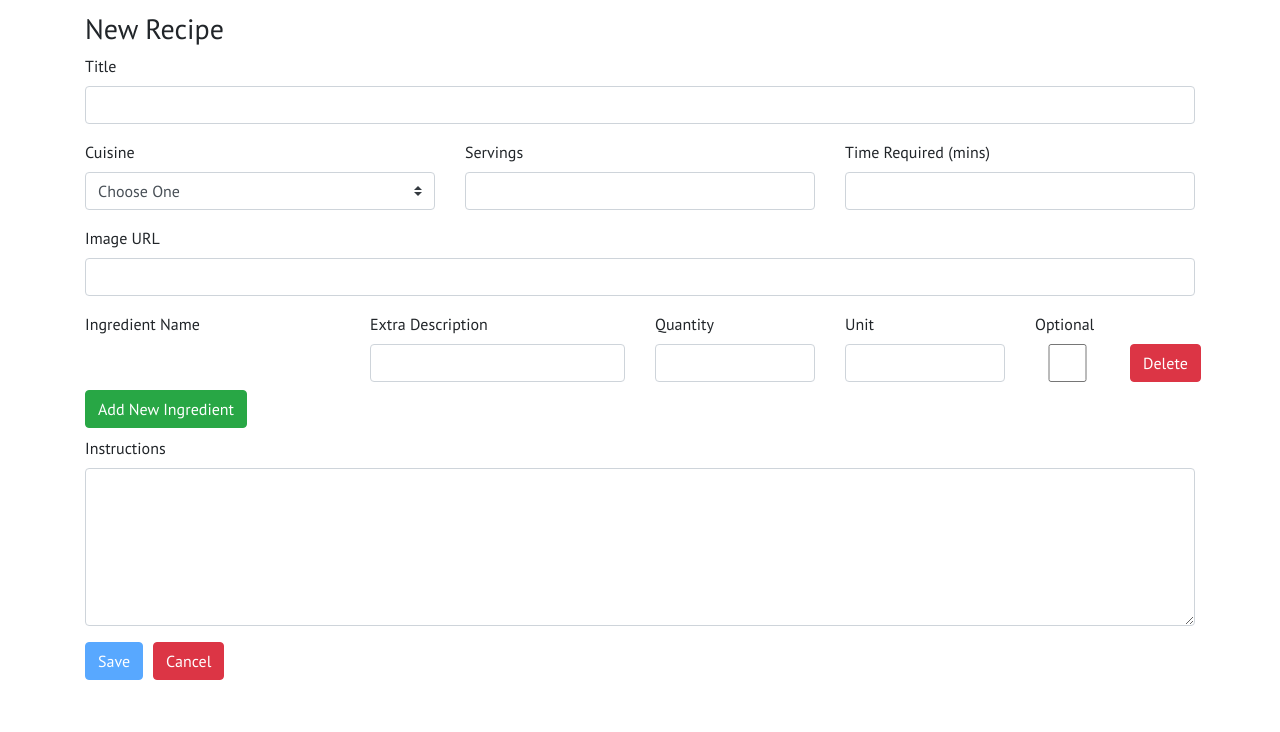
Test case: Recipe Form › when delete button is clicked, the ingredient row is removed
This screenshot has width=1280, height=732.
Check: the field labelled "Title" is shown, box [85,86,1195,124]
Check: the number of elements with test id "ingredients-row" is 1, box [370,344,1201,382]
What coordinates should you click on to do the following:
click the button with test id "delete-0"
I would click on:
 (1165, 363)
Its box is [1130,344,1201,382].
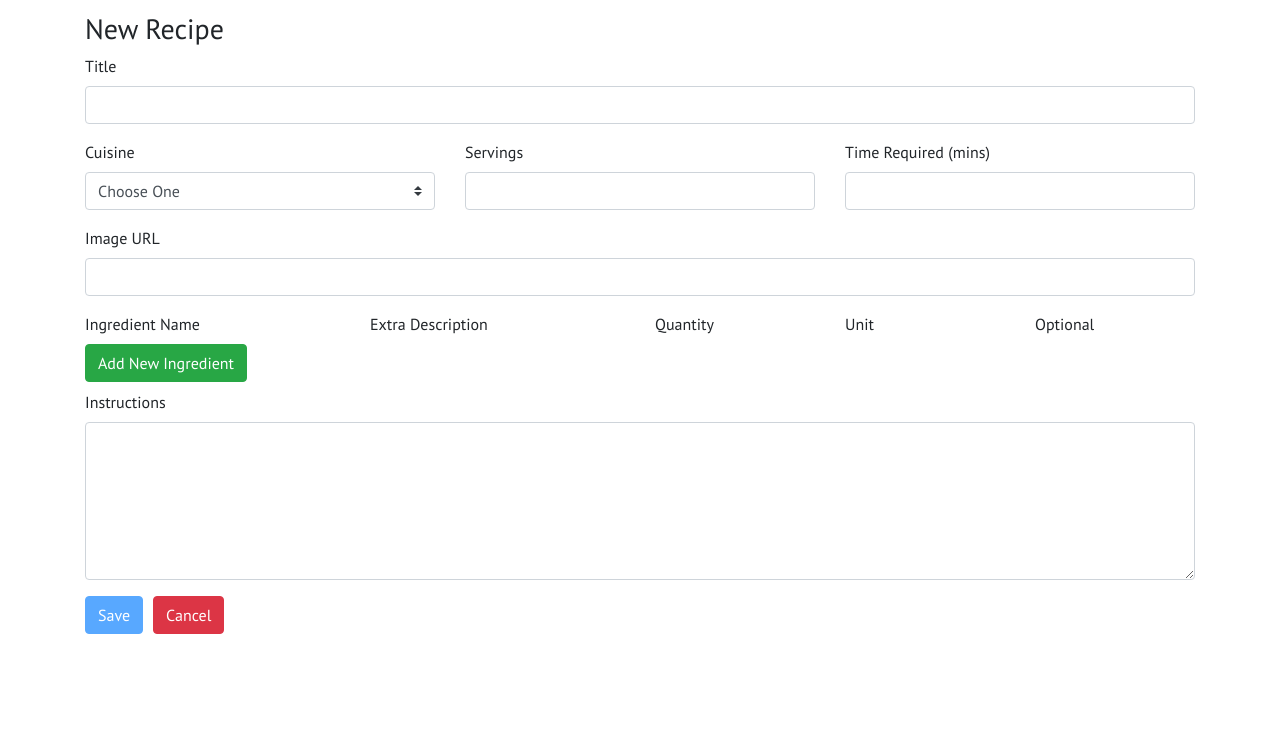
Check: no elements with test id "ingredients-row" are shown
